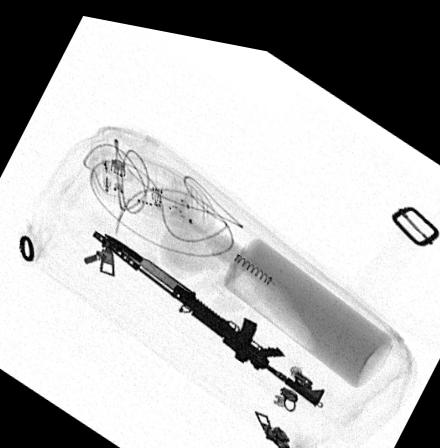Bullet: (104, 227, 196, 294)
Gun: (91, 224, 323, 393)
